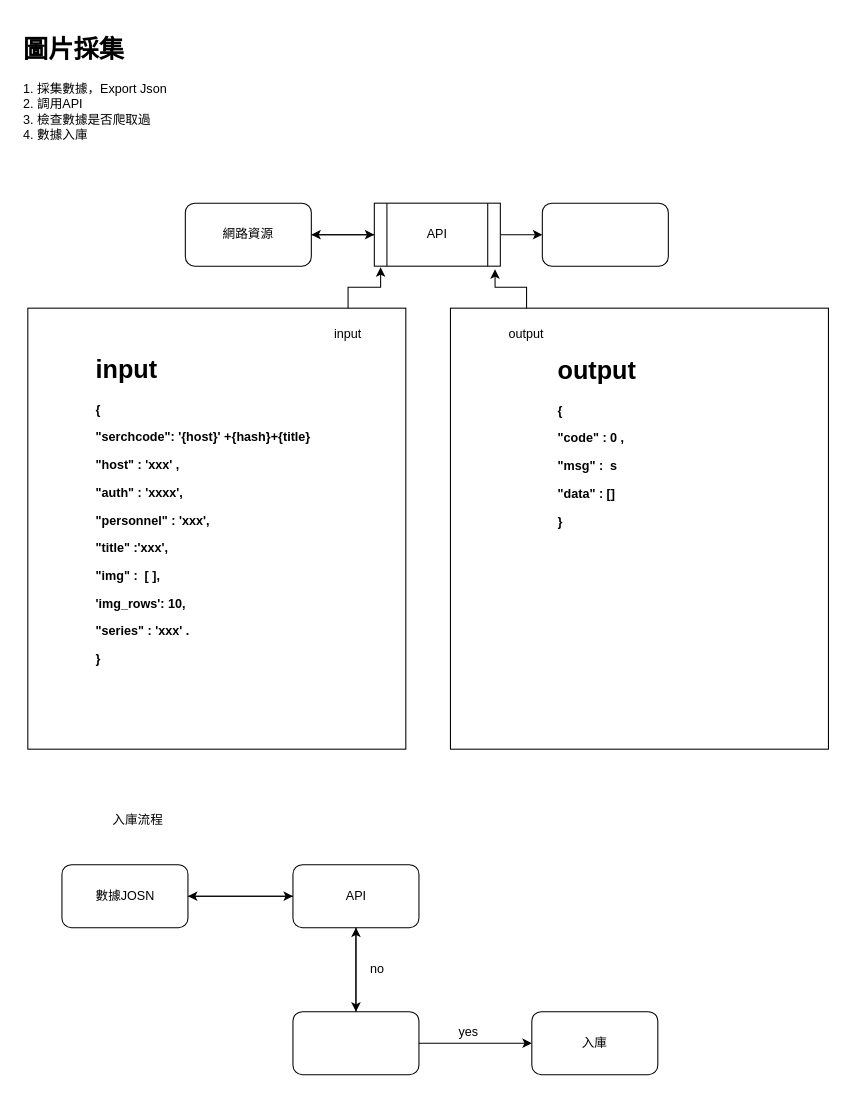
Some shapes in this 846 by 1093 pixel diagram are drawn without their labels. Each missing label, with the box of its shape:
伺服器: (541, 202, 668, 266)
驗證是否可以入庫: (292, 1011, 419, 1075)
